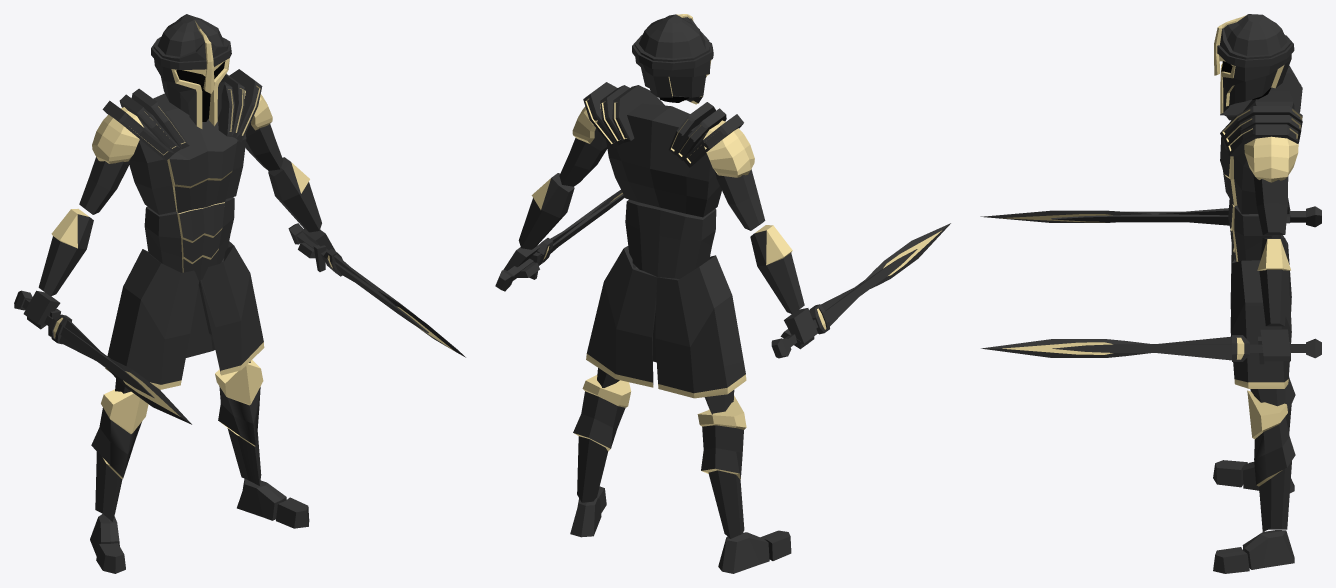
Rendered from DarkSpartan.fbx.
3 renders of one model, left to right at view 1: azimuth 30°, elevation 25°; view 2: azimuth 150°, elevation 25°; view 3: azimuth 270°, elevation 25°, orthographic. The views are drawn at different scales.
Visible parts, largest first — view 1: pasted__pCube34, polySurface52, pasted__pCube33, pPlane4, polySurface53, polySurface79, polySurface68, polySurface66, pCube2, polySurface60, polySurface54, pCube1 (+8 smaller); view 2: pasted__pCube34, polySurface52, pasted__pCube33, polySurface53, pPlane4, polySurface79, polySurface68, polySurface66, pCube2, polySurface60, polySurface54, pasted__pasted__polySurface6 (+7 smaller); view 3: pPlane4, pCube1, polySurface66, pasted__pCube33, polySurface79, pCube2, polySurface54, polySurface52, pasted__pasted__polySurface5, polySurface55, polySurface53, polySurface49 (+4 smaller).
Part boxes in pixels (left/top/right/bottom): pasted__pCube34: left=105, top=249, right=199, bottom=389; polySurface52: left=129, top=93, right=246, bottom=214; pasted__pCube33: left=186, top=241, right=264, bottom=375; pPlane4: left=151, top=14, right=231, bottom=128; polySurface53: left=144, top=197, right=234, bottom=280; polySurface79: left=102, top=69, right=262, bottom=160; polySurface68: left=91, top=389, right=148, bottom=521; polySurface66: left=215, top=360, right=263, bottom=485; pCube2: left=14, top=290, right=191, bottom=424; polySurface60: left=38, top=208, right=93, bottom=296; polySurface54: left=268, top=157, right=321, bottom=232; pCube1: left=288, top=223, right=465, bottom=357; pasted__pCube34: left=655, top=255, right=746, bottom=398; polySurface52: left=606, top=103, right=721, bottom=217; pasted__pCube33: left=586, top=246, right=657, bottom=387; polySurface53: left=625, top=199, right=716, bottom=278; pPlane4: left=632, top=14, right=713, bottom=104; polySurface79: left=583, top=82, right=743, bottom=167; polySurface68: left=697, top=395, right=746, bottom=538; polySurface66: left=573, top=375, right=631, bottom=502; pCube2: left=771, top=223, right=950, bottom=358; polySurface60: left=750, top=225, right=804, bottom=314; polySurface54: left=518, top=173, right=574, bottom=249; pasted__pasted__polySurface6: left=703, top=120, right=754, bottom=177; pPlane4: left=1214, top=14, right=1294, bottom=113; pCube1: left=981, top=335, right=1321, bottom=361; polySurface66: left=1247, top=390, right=1295, bottom=531; pasted__pCube33: left=1230, top=259, right=1291, bottom=388; polySurface79: left=1220, top=65, right=1302, bottom=156; pCube2: left=980, top=206, right=1321, bottom=227; polySurface54: left=1257, top=238, right=1290, bottom=326; polySurface52: left=1220, top=91, right=1294, bottom=214; pasted__pasted__polySurface5: left=1244, top=136, right=1298, bottom=182; polySurface55: left=1253, top=175, right=1288, bottom=235; polySurface53: left=1228, top=199, right=1281, bottom=261; polySurface49: left=1242, top=530, right=1294, bottom=569.
Size of the model in its own units: 4.08 by 6.77 by 4.11.
